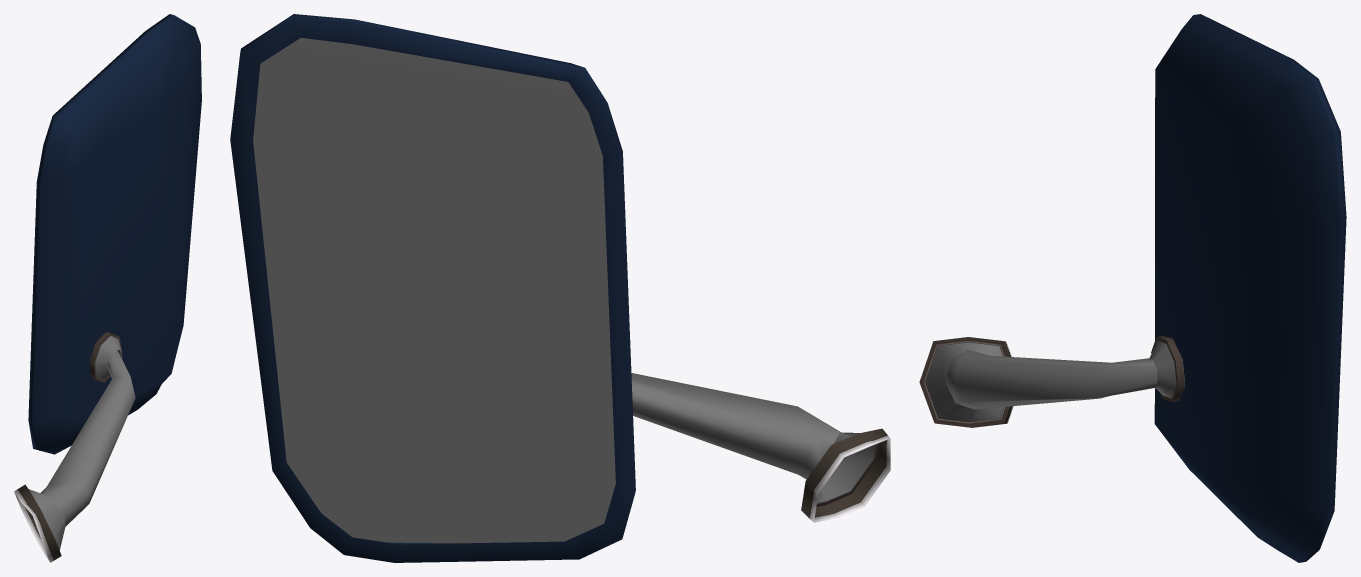
The model's file is bath9.glb.
3 renders of one model, left to right at view 1: azimuth 30°, elevation 25°; view 2: azimuth 150°, elevation 25°; view 3: azimuth 270°, elevation 25°, orthographic. The views are drawn at different scales.
Parts seen in each view (by area): view 1: node_id456, node_id454, node_id458; view 2: node_id454, node_id456, node_id458; view 3: node_id456, node_id454, node_id458.
Boxes of the visible parts, left/top/right/bottom form: node_id456: left=28, top=14, right=201, bottom=454; node_id454: left=28, top=336, right=135, bottom=550; node_id458: left=14, top=332, right=121, bottom=562; node_id454: left=253, top=37, right=875, bottom=543; node_id456: left=230, top=14, right=635, bottom=562; node_id458: left=801, top=428, right=890, bottom=522; node_id456: left=1154, top=14, right=1346, bottom=562; node_id454: left=925, top=341, right=1176, bottom=421; node_id458: left=919, top=335, right=1184, bottom=427.
Bounding box in the file's own units: 0.4397 × 0.512 × 0.3833.
Materials: 3 (3 with a texture image).
